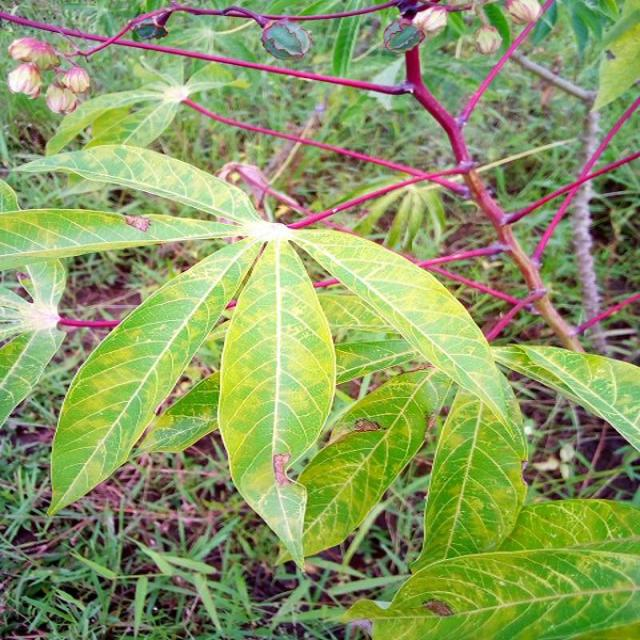cassava leaf: (46, 232, 262, 518), (216, 232, 337, 570)
